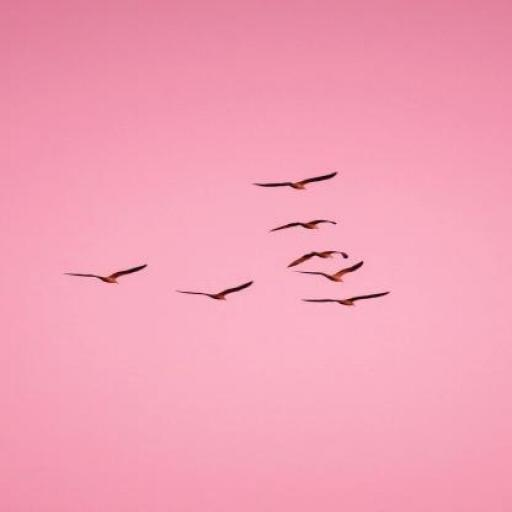bird: (251, 171, 339, 191), (62, 264, 148, 284), (294, 261, 366, 283), (176, 282, 255, 301), (302, 292, 392, 306), (286, 250, 350, 268), (268, 219, 338, 233)
